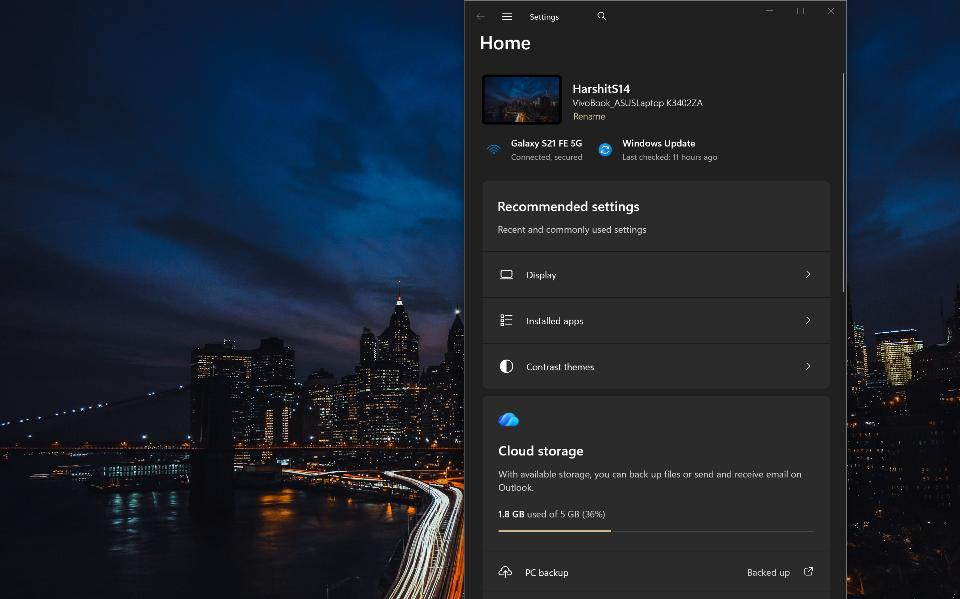close_button: (822, 0, 843, 21)
maximize_button: (791, 1, 812, 21)
minimize_button: (763, 1, 783, 20)
